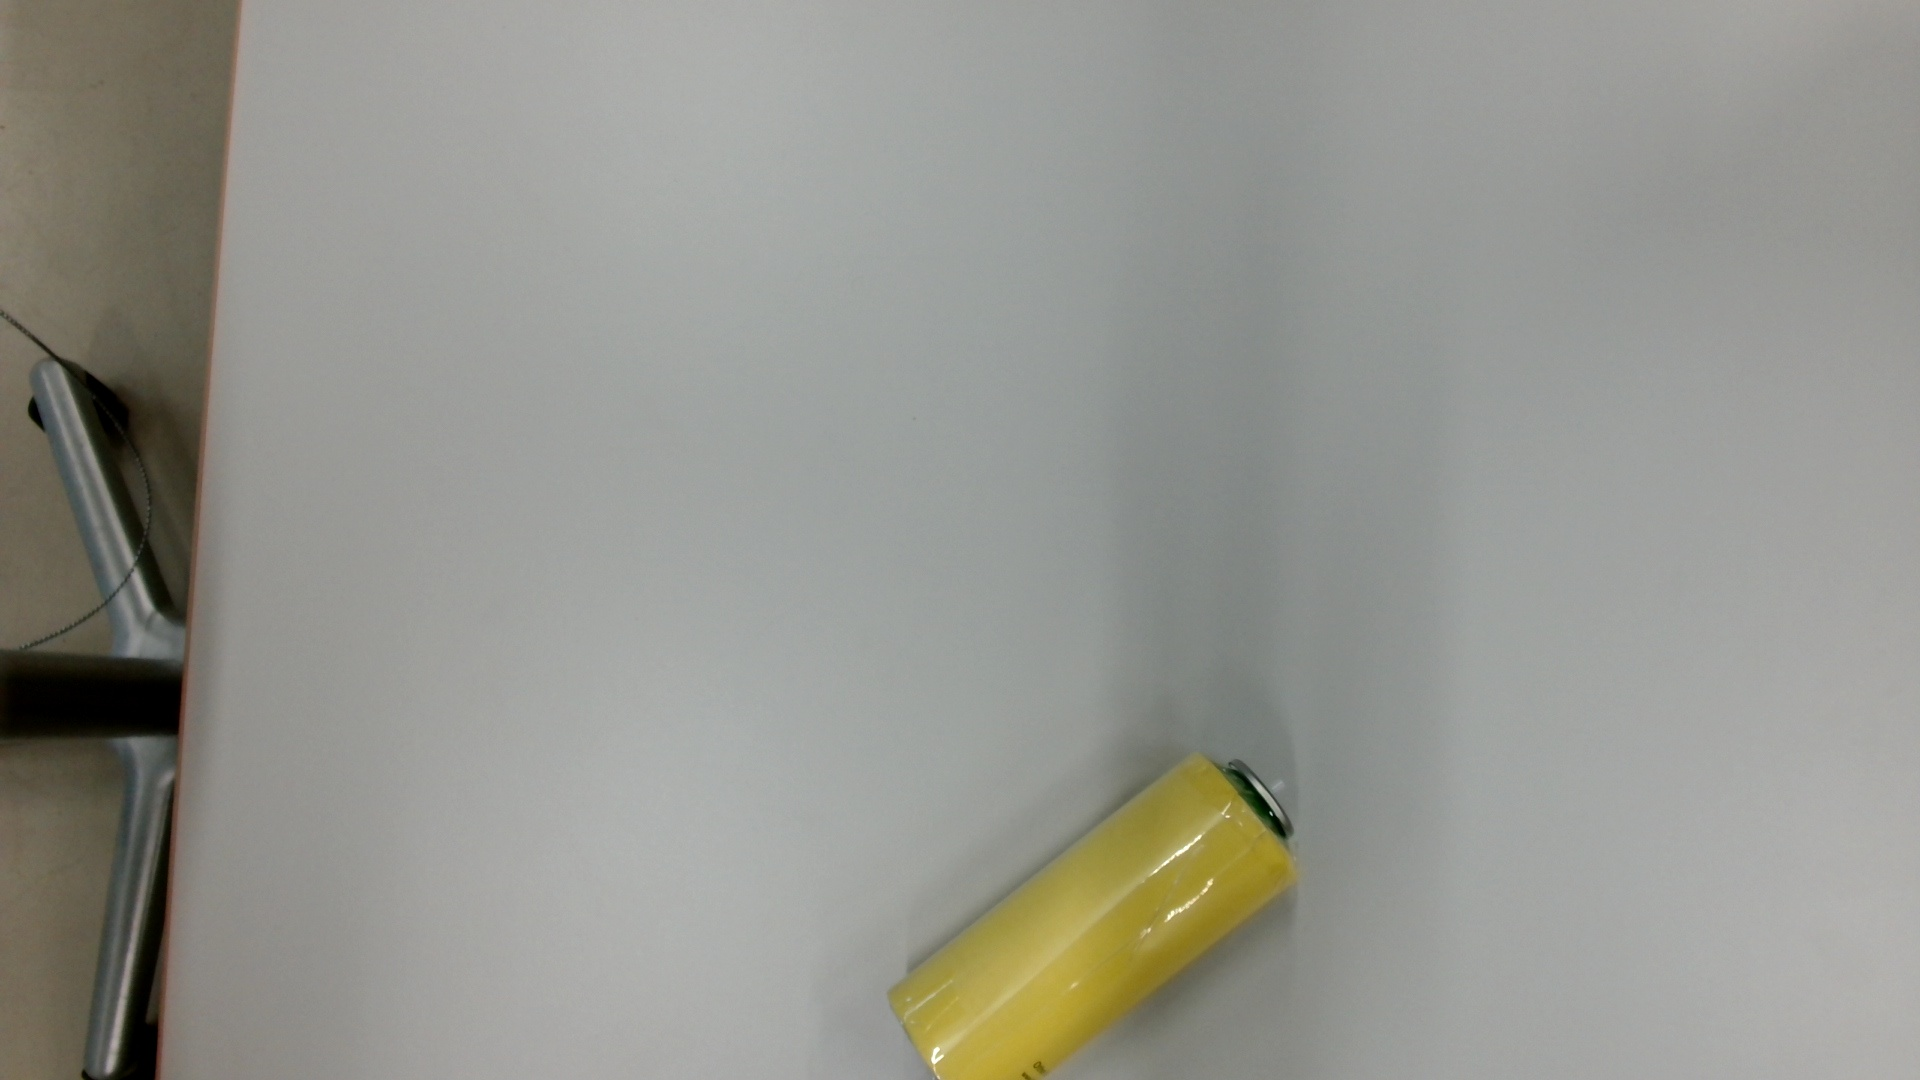Cylinder: (880, 740, 1319, 1080)
